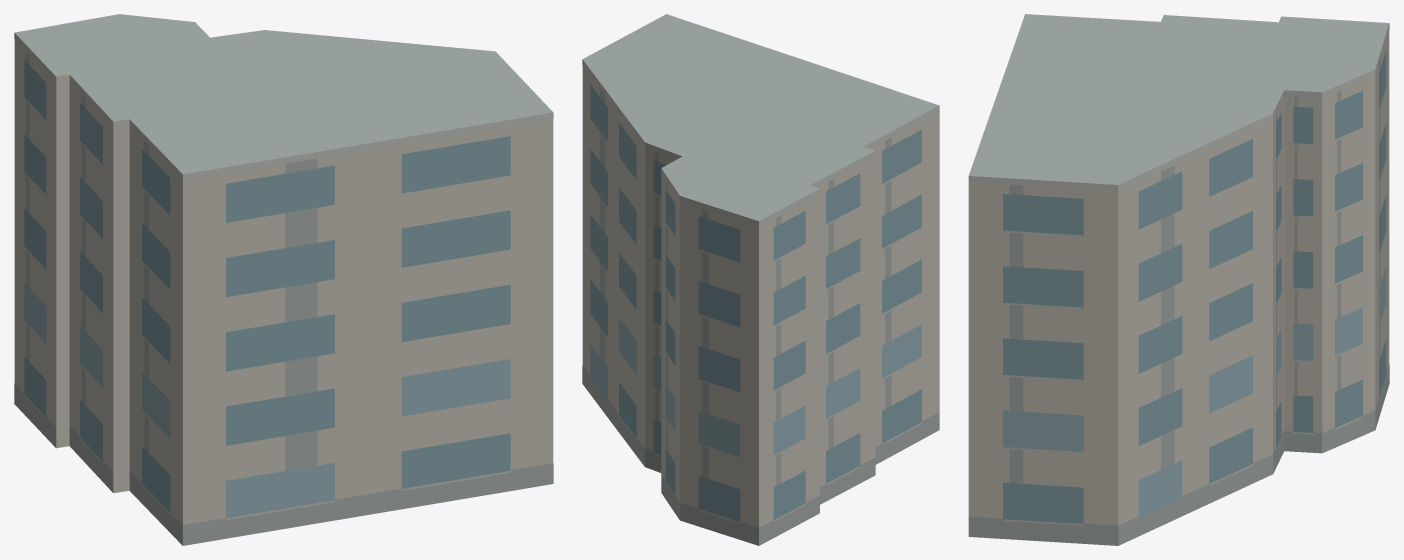
File: survey-upis-32504846.glb
The picture shows the model from 3 angles, left to right: view 1: azimuth 30°, elevation 25°; view 2: azimuth 150°, elevation 25°; view 3: azimuth 270°, elevation 25°; orthographic projection. The views are drawn at different scales.
Visible parts, largest first — view 1: survey-upis-32504846.tmp; view 2: survey-upis-32504846.tmp; view 3: survey-upis-32504846.tmp.
Part boxes in pixels (x1,y1,x2,y2): survey-upis-32504846.tmp: (14, 14, 553, 545); survey-upis-32504846.tmp: (582, 14, 939, 545); survey-upis-32504846.tmp: (968, 14, 1389, 545).
Bounding box in the file's own units: 14.33 × 14.1 × 14.91.
